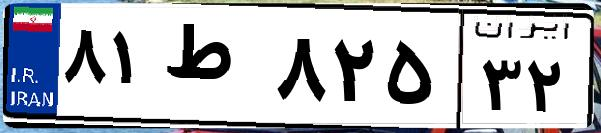1: (110, 28, 158, 98)
2: (330, 28, 385, 110), (525, 38, 570, 115)
3: (475, 38, 525, 113)
5: (385, 28, 445, 110)
8: (270, 28, 330, 110), (57, 26, 110, 100)
ط: (158, 20, 270, 120)
